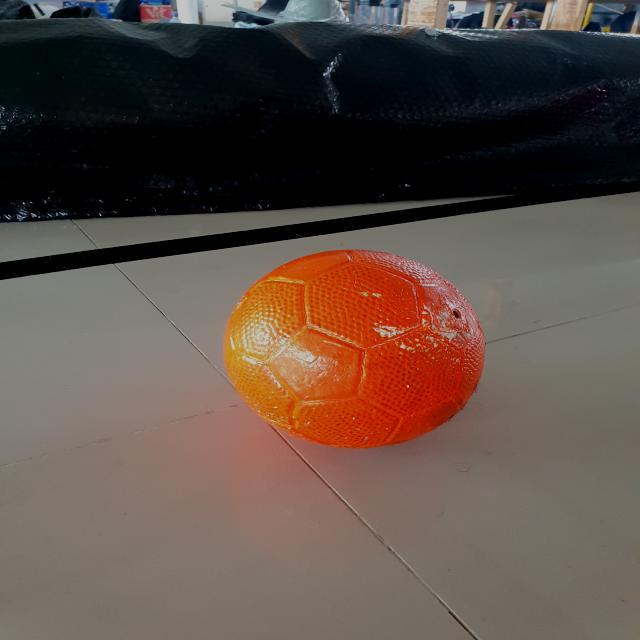bola: (224, 242, 484, 458)
